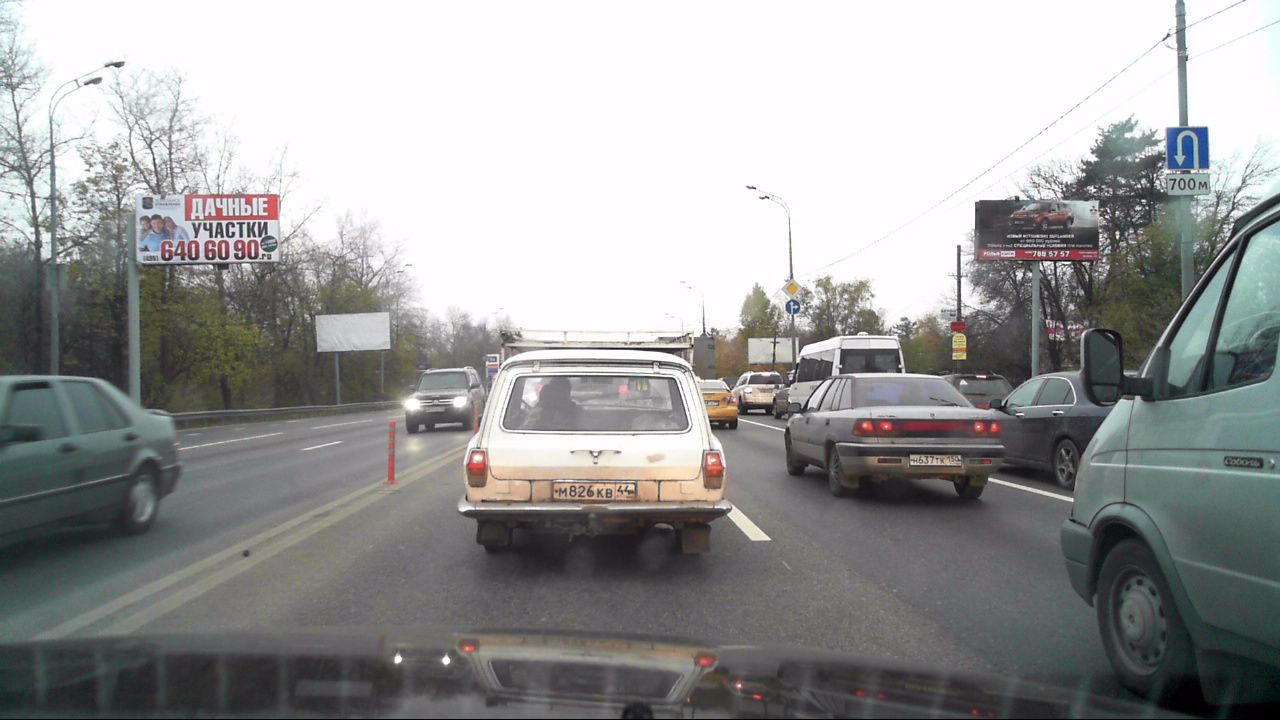U-turn: (1167, 128, 1208, 170)
